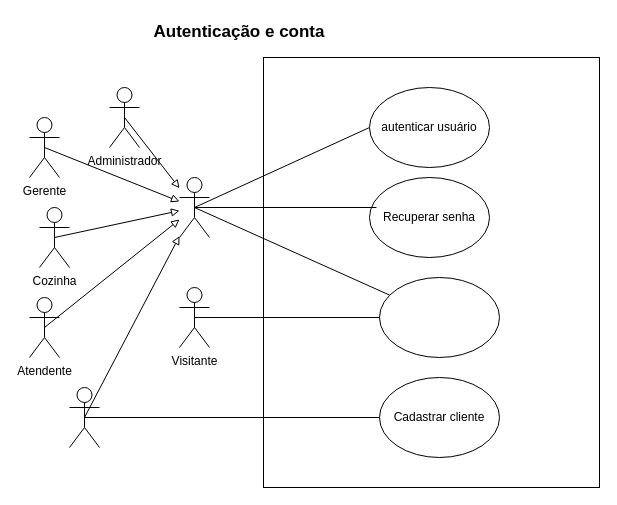
This 617x505 diagram has some shape labels left out. Here are the shapes that lost their labels. From the top down, the centre of each, then its label:
[194,207]: Usuário
[439,317]: Consultar cardápio
[84,417]: Cliente
